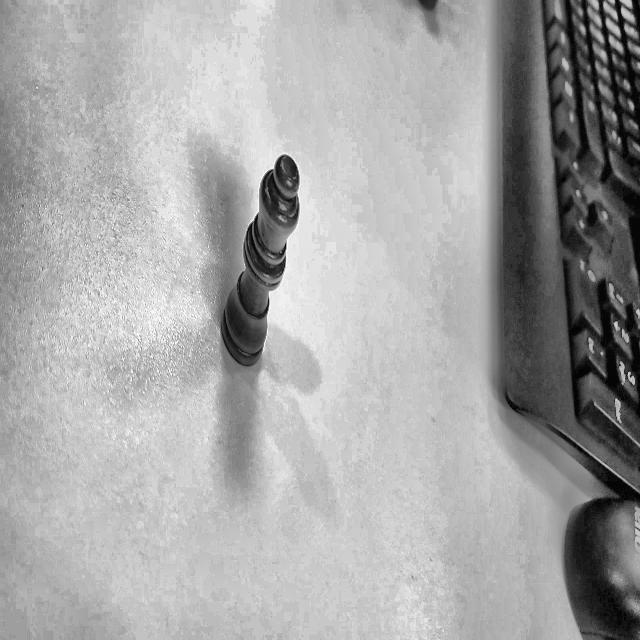black-queen: (214, 147, 306, 378)
